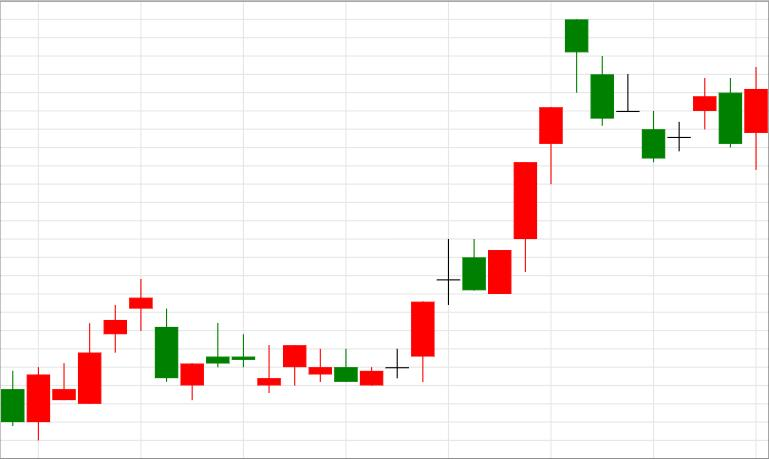hanging_man_fall: (412, 19, 588, 383)
